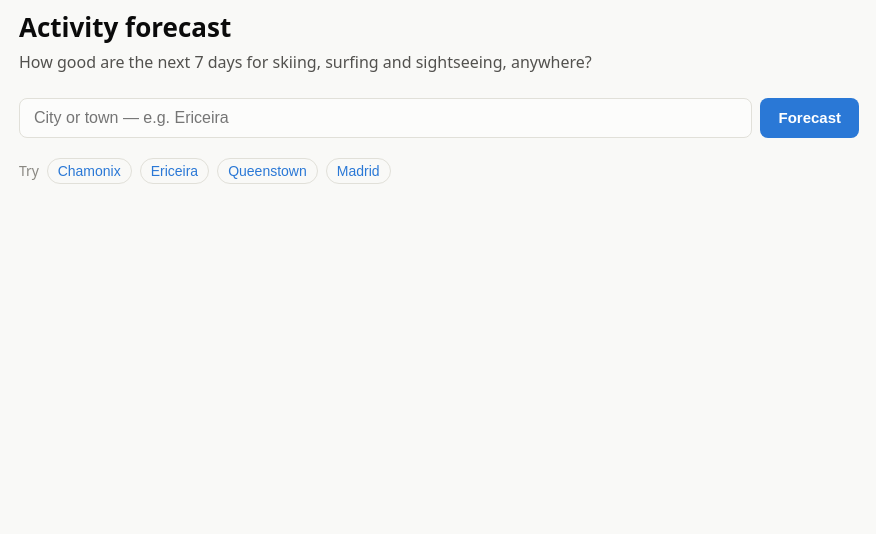
Test case: ready names the resolved place, so a wrong geocode guess is visible
The width and height of the screenshot is (876, 534).
Type "Ericeira" into the field labelled "City or town" at (386, 118), box left=19, top=98, right=752, bottom=138
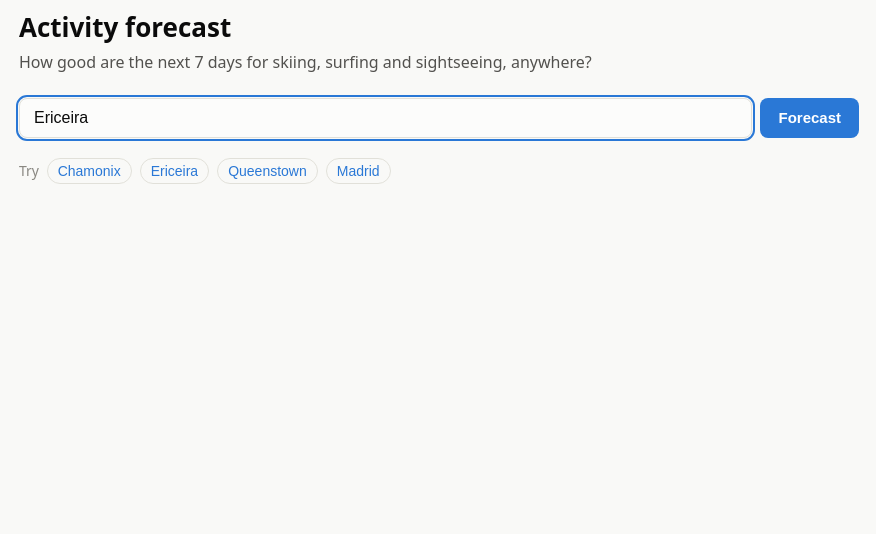
Click the button "Forecast" at (810, 118), box left=760, top=98, right=859, bottom=138
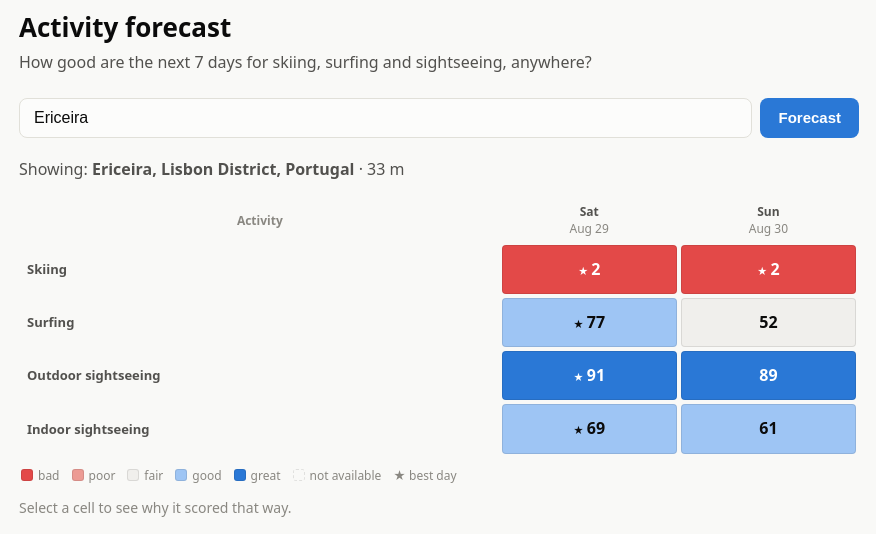
Expected: the text "Ericeira, Lisbon District, Portugal" is shown, left=92, top=158, right=354, bottom=180
Expected: the column heading "Surfing" is shown, left=21, top=297, right=499, bottom=348
Expected: the text "Select a cell to see why it scored that way." is shown, left=19, top=498, right=292, bottom=517
